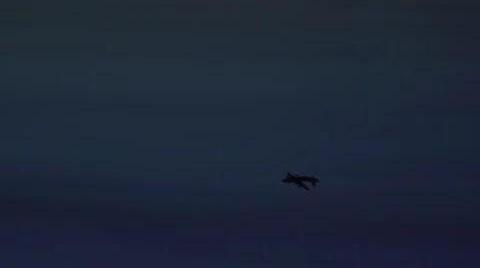Plane: (263, 163, 335, 199)
